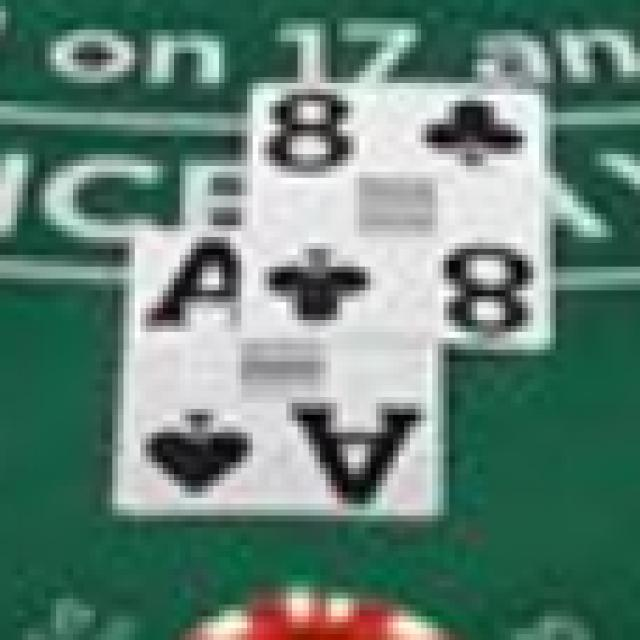Card-8: (246, 78, 552, 356)
Card-A: (118, 230, 443, 515)
